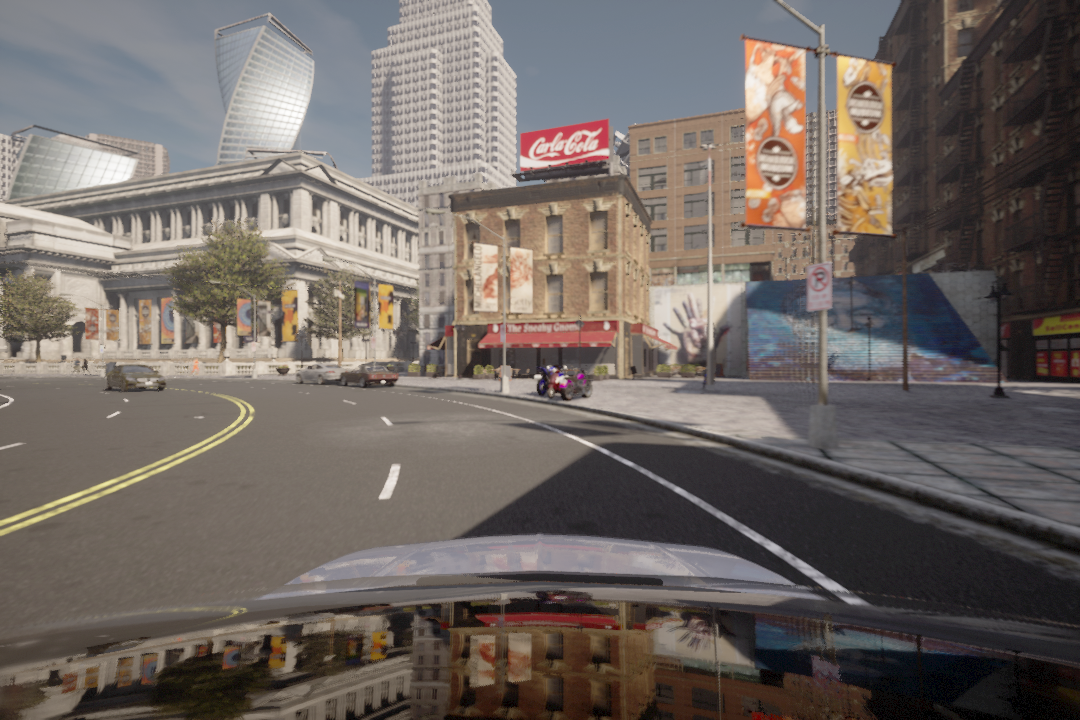TrafficSign_nstop: (800, 264, 835, 311)
